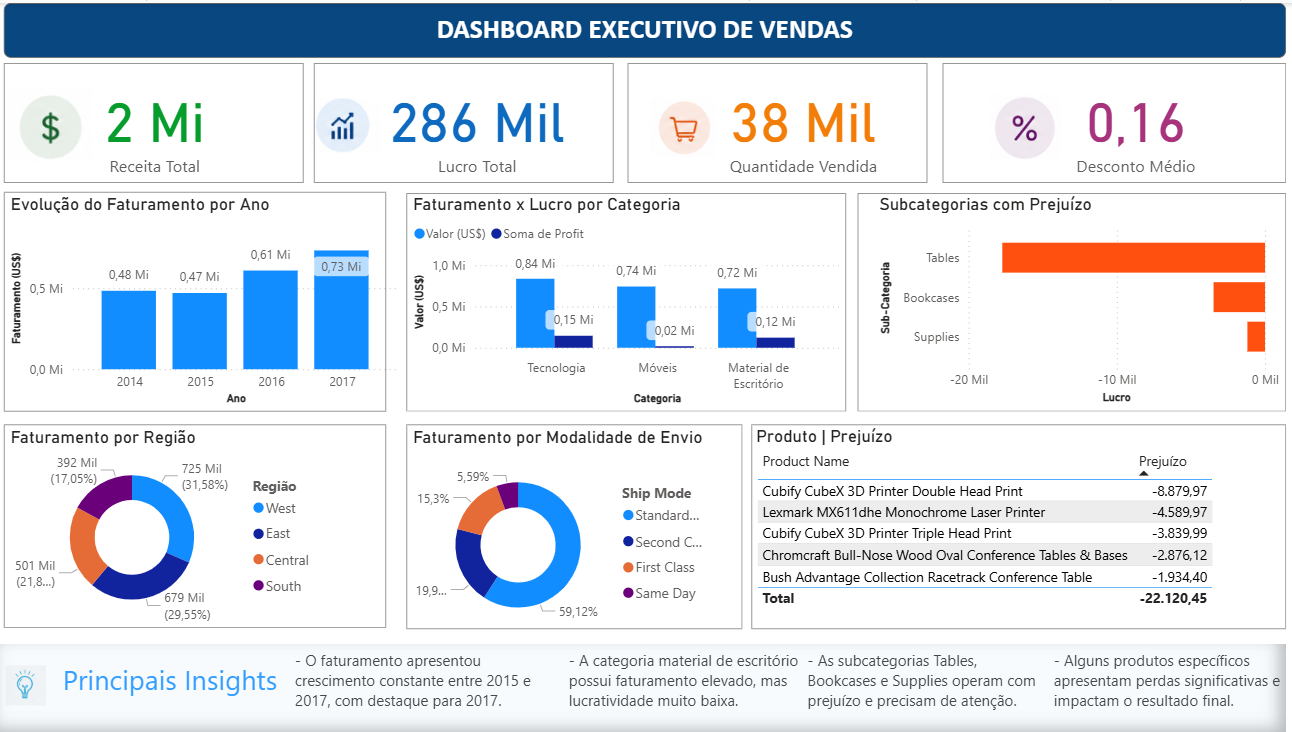

What the dashboard file says about the page in this screenshot:
{"tool":"powerbi","page":{"name":"Dashboard Vendas","canvas":[1280,720],"ordinal":0},"visuals":[{"type":"textbox","title":"Dashboard Executivo de Vendas","box":[13.5,0,1254.6,53.8],"z":0},{"type":"card","fields":{"Values":["superstore_tratada.Receita Total"]},"box":[13.7,64.5,295,111.1],"z":1000},{"type":"card","fields":{"Values":["superstore_tratada.Lucro Total"]},"box":[329.3,64.5,295,111.1],"z":2000},{"type":"card","fields":{"Values":["superstore_tratada.Quantidade Vendida"]},"box":[647.7,64.5,295,111.1],"z":3000},{"type":"card","fields":{"Values":["superstore_tratada.Desconto Médio"]},"box":[972.9,64.5,295,111.1],"z":4000},{"type":"lineClusteredColumnComboChart","title":"Evolução do Faturamento por Ano","fields":{"Y":["Sum(superstore_tratada.Sales)"],"Category":["superstore_tratada.Ano"]},"box":[13.5,184.6,393.8,215.2],"z":5000},{"type":"lineClusteredColumnComboChart","title":"Faturamento x Lucro por Categoria","fields":{"Y":["Sum(superstore_tratada.Sales)","Sum(superstore_tratada.Profit)"],"Category":["superstore_tratada.Category"]},"box":[407.2,184.6,430.4,215.2],"z":6000},{"type":"clusteredBarChart","title":"Subcategorias com Prejuízo","fields":{"Category":["superstore_tratada.Sub-Category"],"Y":["Sum(superstore_tratada.Profit)"]},"box":[863.1,185.2,404.8,214.1],"z":7000},{"type":"donutChart","title":"Faturamento por Região","fields":{"Category":["superstore_tratada.Region"],"Y":["Sum(superstore_tratada.Sales)"]},"box":[13.5,412.1,315.5,199.3],"z":8000},{"type":"donutChart","title":"Faturamento por Modalidade de Envio","fields":{"Category":["superstore_tratada.Ship Mode"],"Y":["Sum(superstore_tratada.Sales)"]},"box":[407.5,413,307.4,214.1],"z":9000},{"type":"tableEx","title":"Produto | Prejuízo","fields":{"Values":["superstore_tratada.Product Name","superstore_tratada.Top 5 Prejuízo"]},"box":[745.1,413,535.2,214.1],"z":10000},{"type":"textbox","box":[0,621.2,293.5,92.9],"z":11000},{"type":"image","box":[13.5,643.2,50.1,48.9],"z":12000},{"type":"textbox","box":[293.5,627.3,267.8,80.7],"z":13000},{"type":"textbox","box":[561.3,627.3,234.8,92.9],"z":14000},{"type":"textbox","box":[794.8,627.3,239.7,92.9],"z":15000},{"type":"textbox","box":[1035.7,627.3,244.6,92.9],"z":16000},{"type":"textbox","box":[13.5,627.3,1254.6,90.5],"z":17000},{"type":"image","box":[13.5,73.4,91.7,91.7],"z":18000},{"type":"image","box":[308.2,80.7,79.5,79.5],"z":19000},{"type":"image","box":[640.8,81.9,74.6,79.5],"z":20000},{"type":"image","box":[973.4,80.7,79.5,79.5],"z":21000},{"type":"shape","box":[13.5,58.7,294.7,117.4],"z":22000},{"type":"shape","box":[316.7,58.7,289.8,117.4],"z":23000},{"type":"shape","box":[623.6,58.7,293.5,117.4],"z":24000},{"type":"shape","box":[931.8,58.7,336.3,117.4],"z":25000},{"type":"shape","box":[13.5,412.1,384,199.3],"z":26000},{"type":"shape","box":[407.2,185.9,430.4,214],"z":27000},{"type":"shape","box":[848.6,185.9,419.4,214],"z":28000},{"type":"shape","box":[13.5,185.9,384,212.8],"z":29000},{"type":"shape","box":[407.2,412.1,328.9,200.5],"z":30000},{"type":"shape","box":[744.7,412.1,523.4,200.5],"z":31000}]}

Visuals, with their boxes in screenshot pixels (x1, y1, x2, y2), scaled from the page's 1280x720 canvas onto the 1292x732 screenshot:
"Dashboard Executivo de Vendas" textbox: {"left": 14, "top": 0, "right": 1280, "bottom": 55}
card - superstore_tratada.Receita Total: {"left": 14, "top": 66, "right": 312, "bottom": 179}
card - superstore_tratada.Lucro Total: {"left": 332, "top": 66, "right": 630, "bottom": 179}
card - superstore_tratada.Quantidade Vendida: {"left": 654, "top": 66, "right": 952, "bottom": 179}
card - superstore_tratada.Desconto Médio: {"left": 982, "top": 66, "right": 1280, "bottom": 179}
"Evolução do Faturamento por Ano" lineClusteredColumnComboChart: {"left": 14, "top": 188, "right": 411, "bottom": 406}
"Faturamento x Lucro por Categoria" lineClusteredColumnComboChart: {"left": 411, "top": 188, "right": 845, "bottom": 406}
"Subcategorias com Prejuízo" clusteredBarChart: {"left": 871, "top": 188, "right": 1280, "bottom": 406}
"Faturamento por Região" donutChart: {"left": 14, "top": 419, "right": 332, "bottom": 622}
"Faturamento por Modalidade de Envio" donutChart: {"left": 411, "top": 420, "right": 722, "bottom": 638}
"Produto | Prejuízo" tableEx: {"left": 752, "top": 420, "right": 1291, "bottom": 638}
textbox: {"left": 0, "top": 632, "right": 296, "bottom": 726}
image: {"left": 14, "top": 654, "right": 64, "bottom": 704}
textbox: {"left": 296, "top": 638, "right": 567, "bottom": 720}
textbox: {"left": 567, "top": 638, "right": 804, "bottom": 731}
textbox: {"left": 802, "top": 638, "right": 1044, "bottom": 731}
textbox: {"left": 1045, "top": 638, "right": 1291, "bottom": 731}
textbox: {"left": 14, "top": 638, "right": 1280, "bottom": 730}
image: {"left": 14, "top": 75, "right": 106, "bottom": 168}
image: {"left": 311, "top": 82, "right": 391, "bottom": 163}
image: {"left": 647, "top": 83, "right": 722, "bottom": 164}
image: {"left": 983, "top": 82, "right": 1063, "bottom": 163}
shape: {"left": 14, "top": 60, "right": 311, "bottom": 179}
shape: {"left": 320, "top": 60, "right": 612, "bottom": 179}
shape: {"left": 629, "top": 60, "right": 926, "bottom": 179}
shape: {"left": 941, "top": 60, "right": 1280, "bottom": 179}
shape: {"left": 14, "top": 419, "right": 401, "bottom": 622}
shape: {"left": 411, "top": 189, "right": 845, "bottom": 407}
shape: {"left": 857, "top": 189, "right": 1280, "bottom": 407}
shape: {"left": 14, "top": 189, "right": 401, "bottom": 405}
shape: {"left": 411, "top": 419, "right": 743, "bottom": 623}
shape: {"left": 752, "top": 419, "right": 1280, "bottom": 623}
